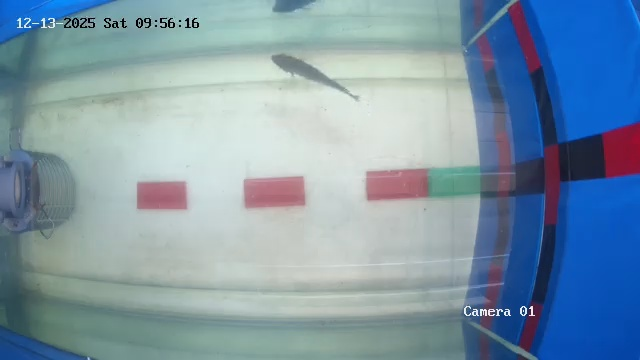fish: (267, 39, 354, 114)
